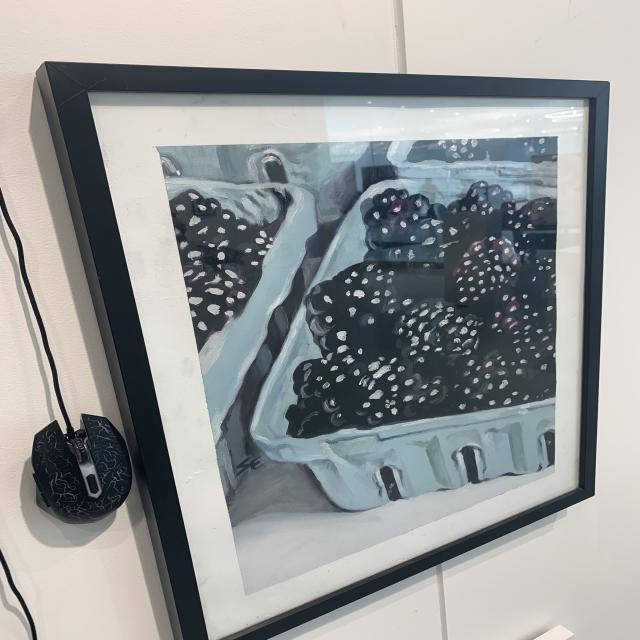Mouse: (28, 410, 136, 530)
